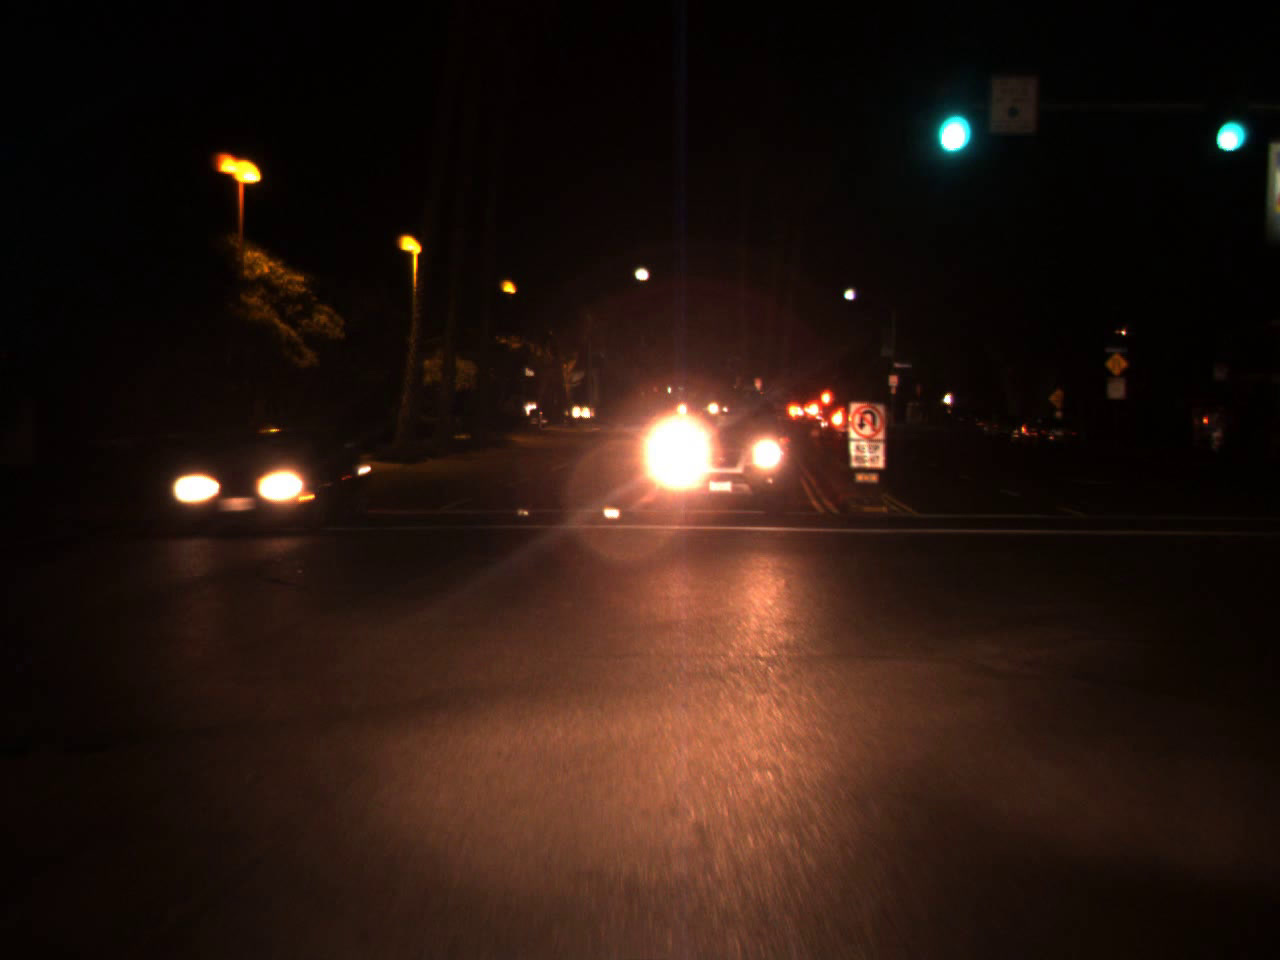go: (1201, 91, 1253, 163), (929, 78, 970, 165)
